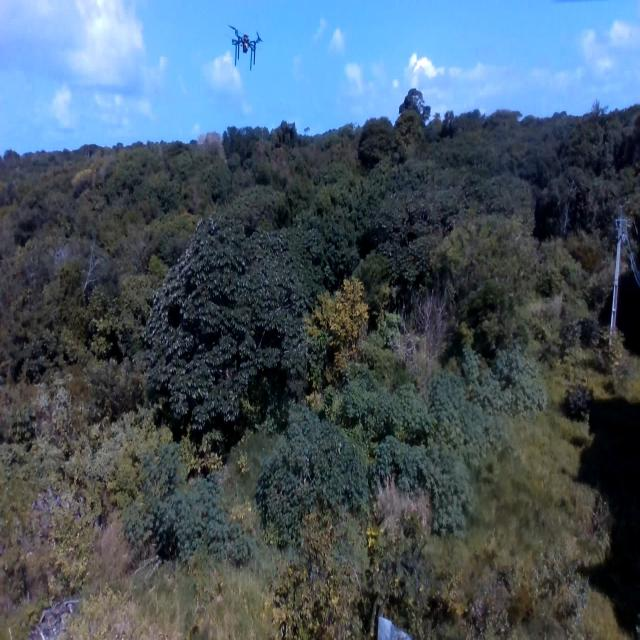-uav-: (223, 12, 271, 86)
